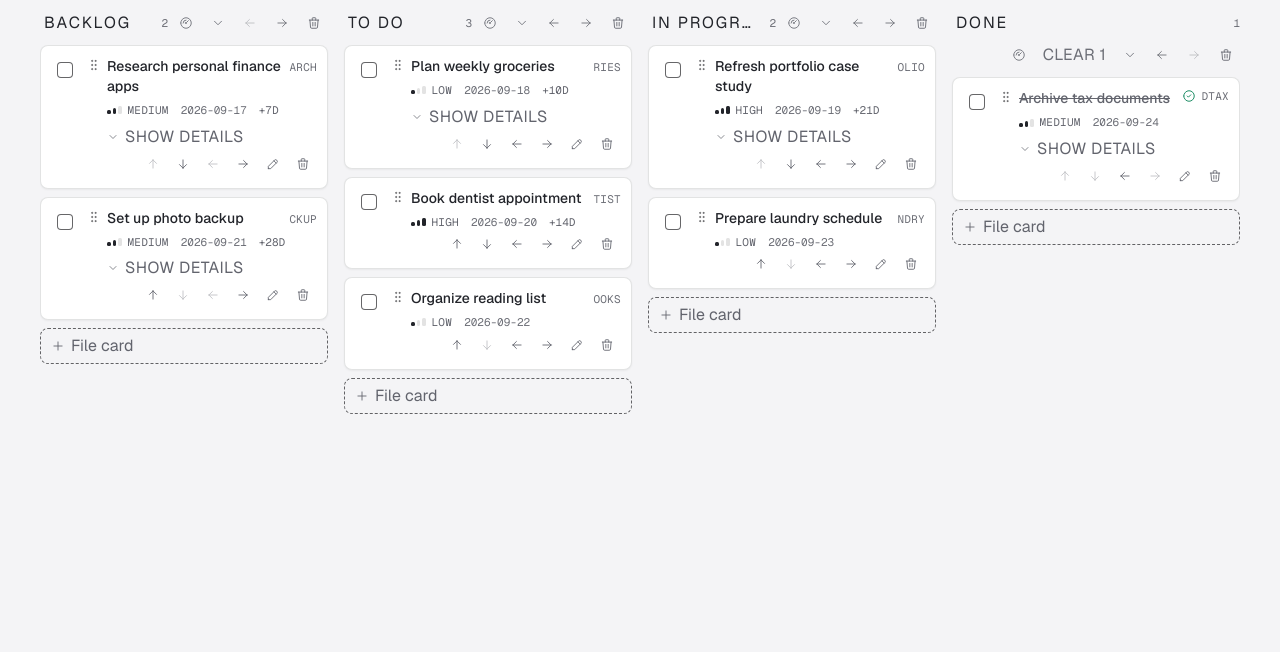
Test: KanbanBoard card editing › closes the open edit form when filing a card, so only one card form is ever mounted
Click the button named "Edit Plan weekly groceries" at (577,144), box 563,130 -> 591,158
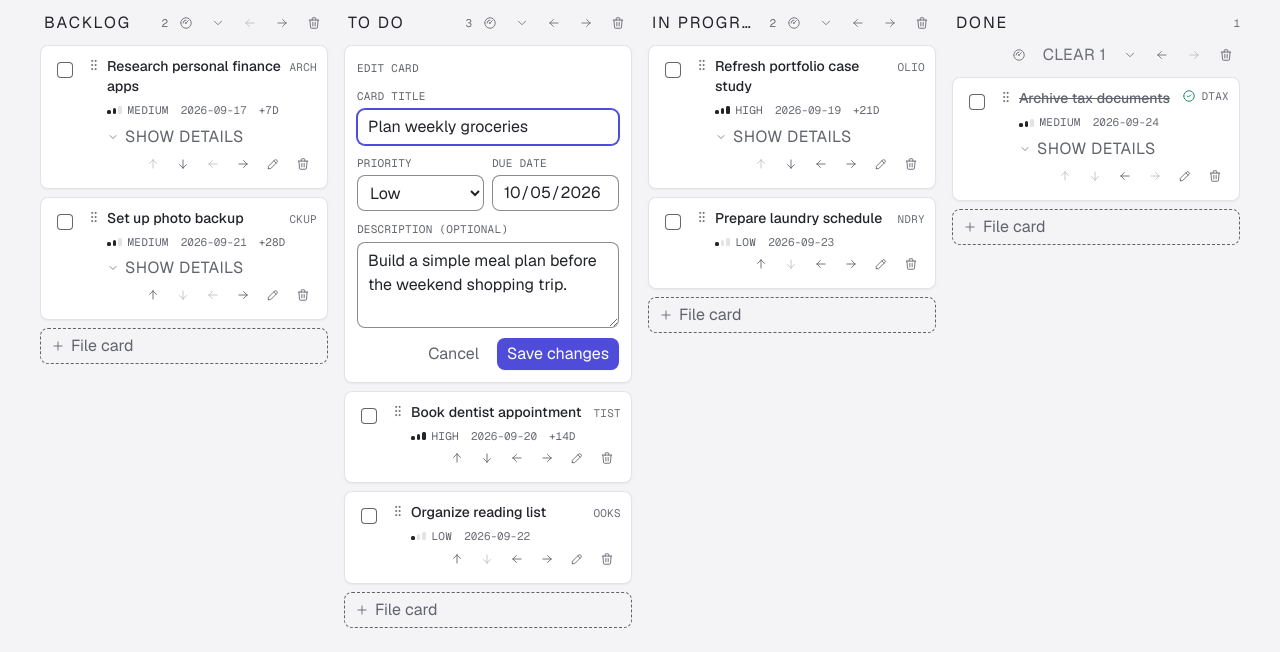
Check: the form "Edit card" is shown, box 344,45 -> 632,382
Click the button "File card" below "2026-09-22" at (406,609), box 344,592 -> 632,628
(page scrolled)
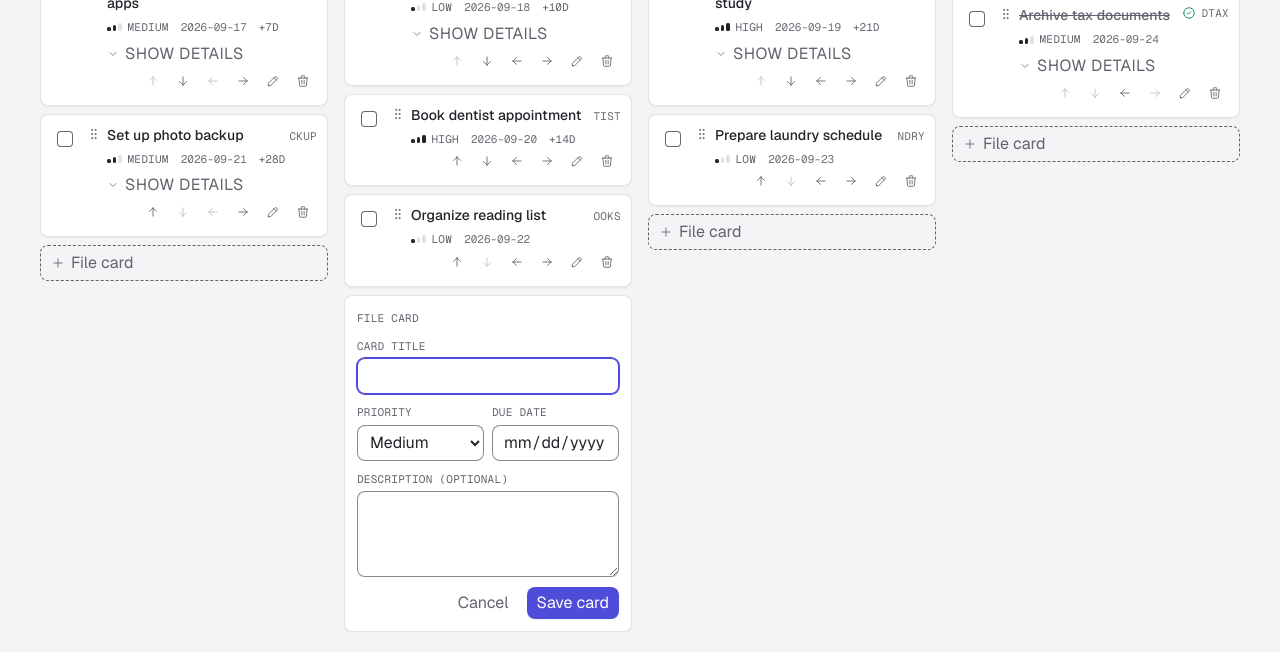
Check: the number of fields labelled "Card title" is 1, box 357,358 -> 619,394
Check: the form "File card" is shown, box 344,294 -> 632,632
Check: the text "Edit card" is gone
Click the button "Cancel" at (483,603), box 448,587 -> 518,619
(page scrolled)
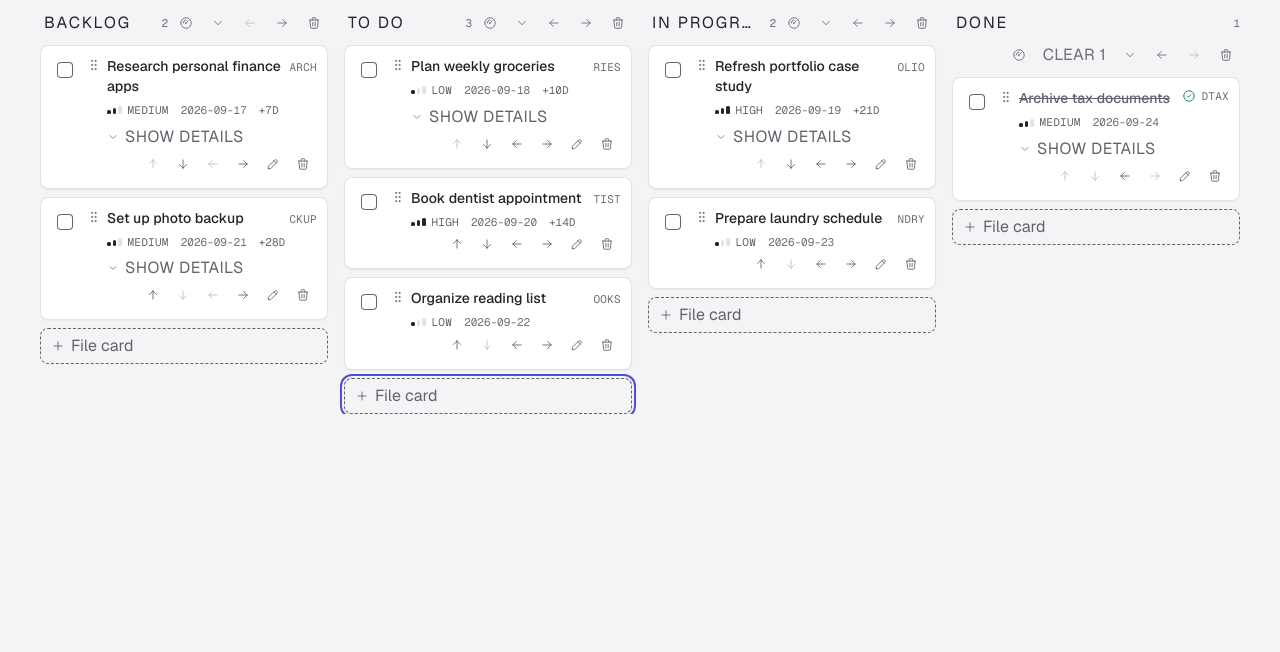
Click the button named "Edit Plan weekly groceries" at (577,144), box 563,130 -> 591,158
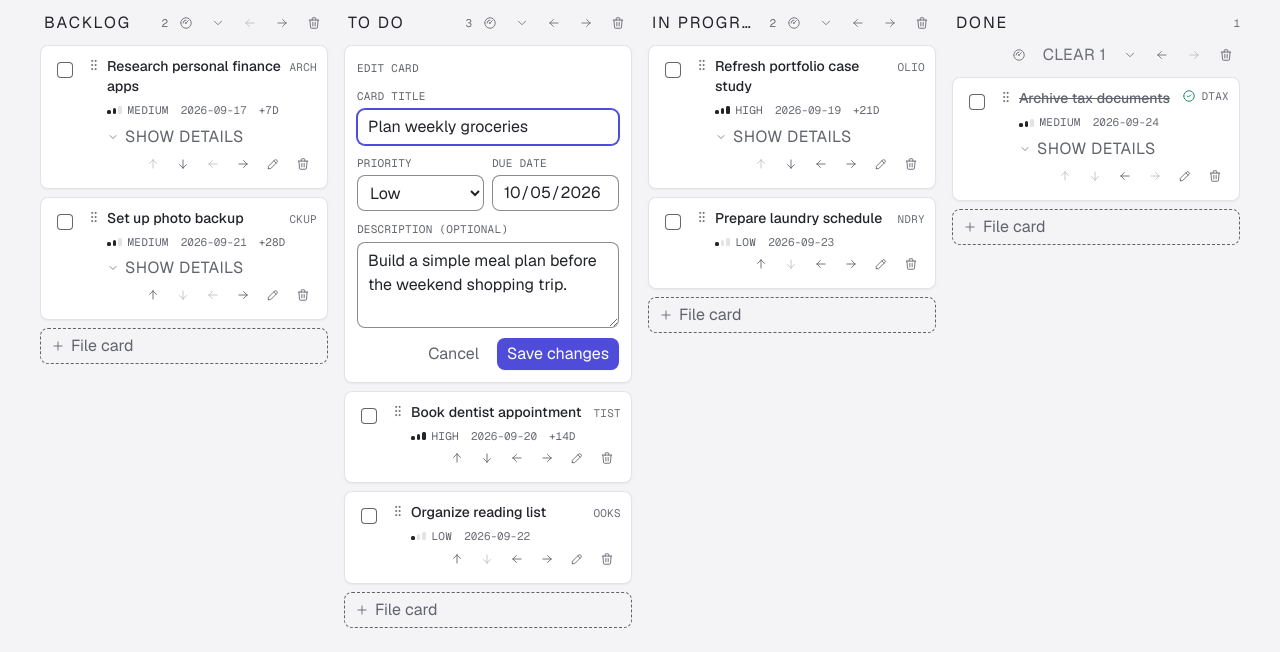
Check: the form "Edit card" is shown, box 344,45 -> 632,382
Click the button "File card" below "2026-09-21" at (102,346), box 40,328 -> 328,364
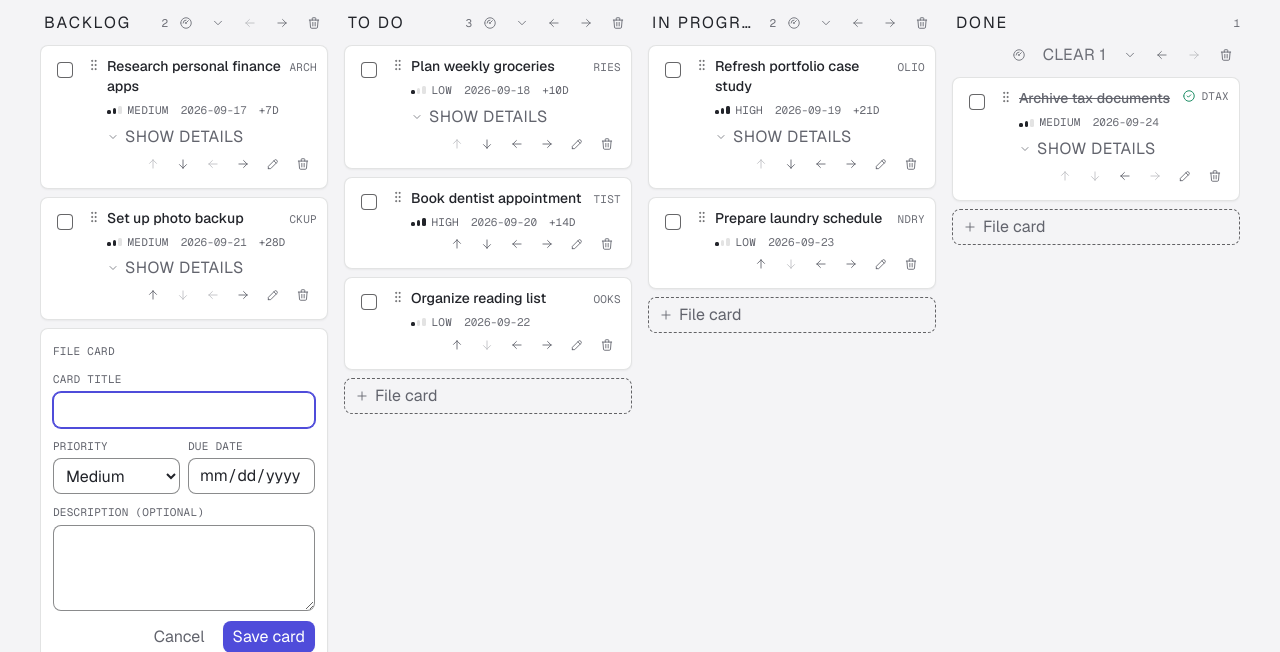
Check: the text "Edit card" is gone
Check: the number of fields labelled "Card title" is 1, box 53,392 -> 315,428
Click the button named "Edit Plan weekly groceries" at (577,144), box 563,130 -> 591,158
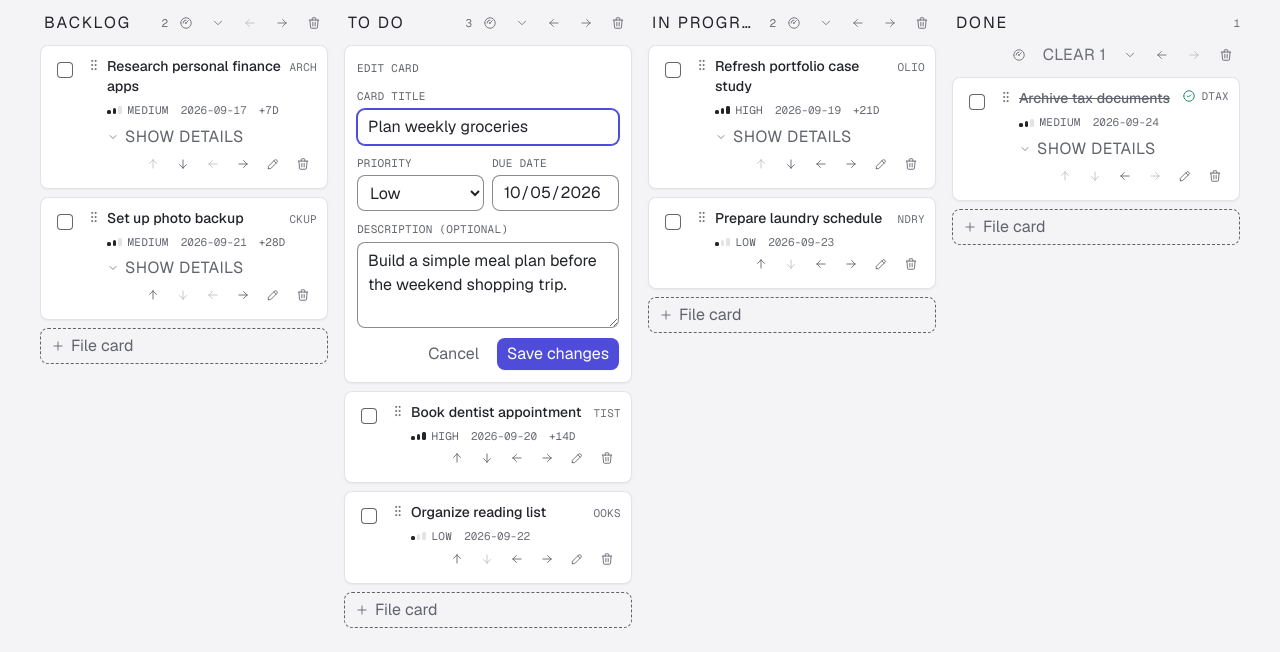
Check: the form "Edit card" is shown, box 344,45 -> 632,382
Check: the number of fields labelled "Card title" is 1, box 357,108 -> 619,144
